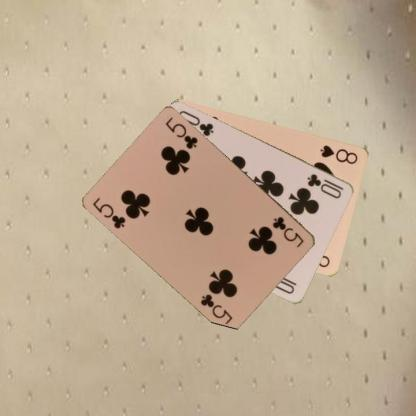10c: (304, 171, 346, 200)
5c: (90, 194, 127, 230), (270, 214, 306, 249)
8s: (318, 142, 359, 165)
